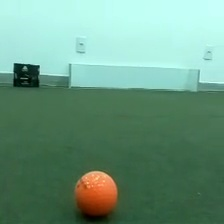ball: (71, 167, 120, 220)
goal: (65, 60, 201, 95)
robot: (11, 61, 41, 90)
